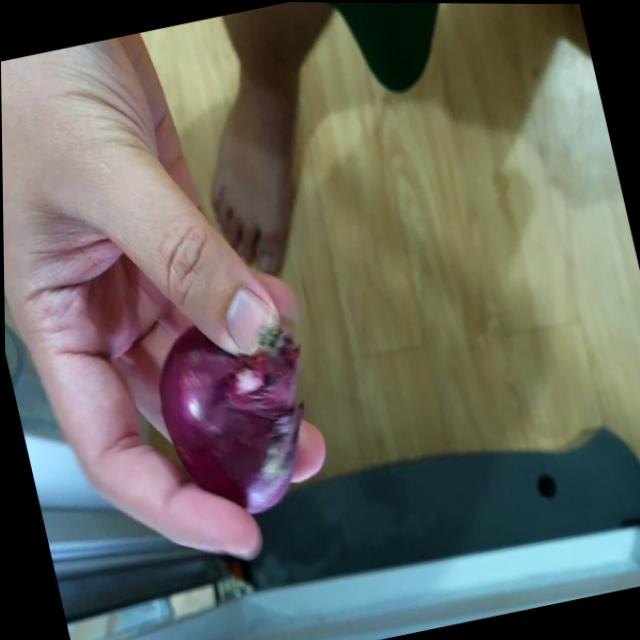onion: (142, 309, 318, 527)
